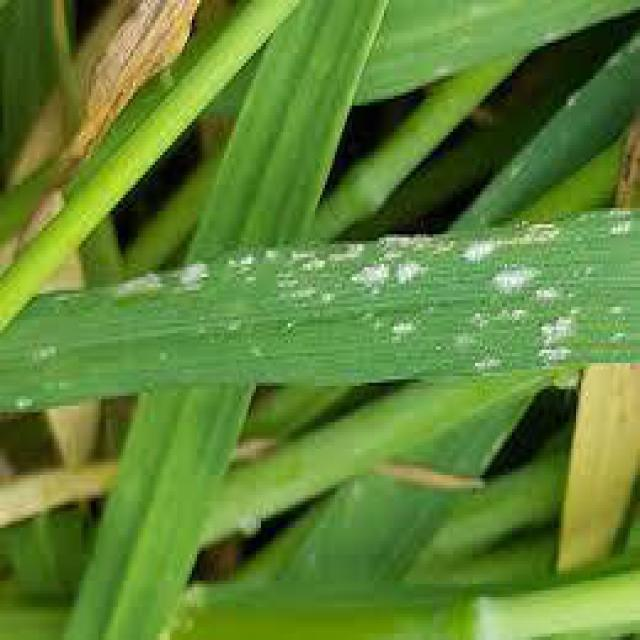wheat-powdery-mildew: (37, 212, 640, 369)
